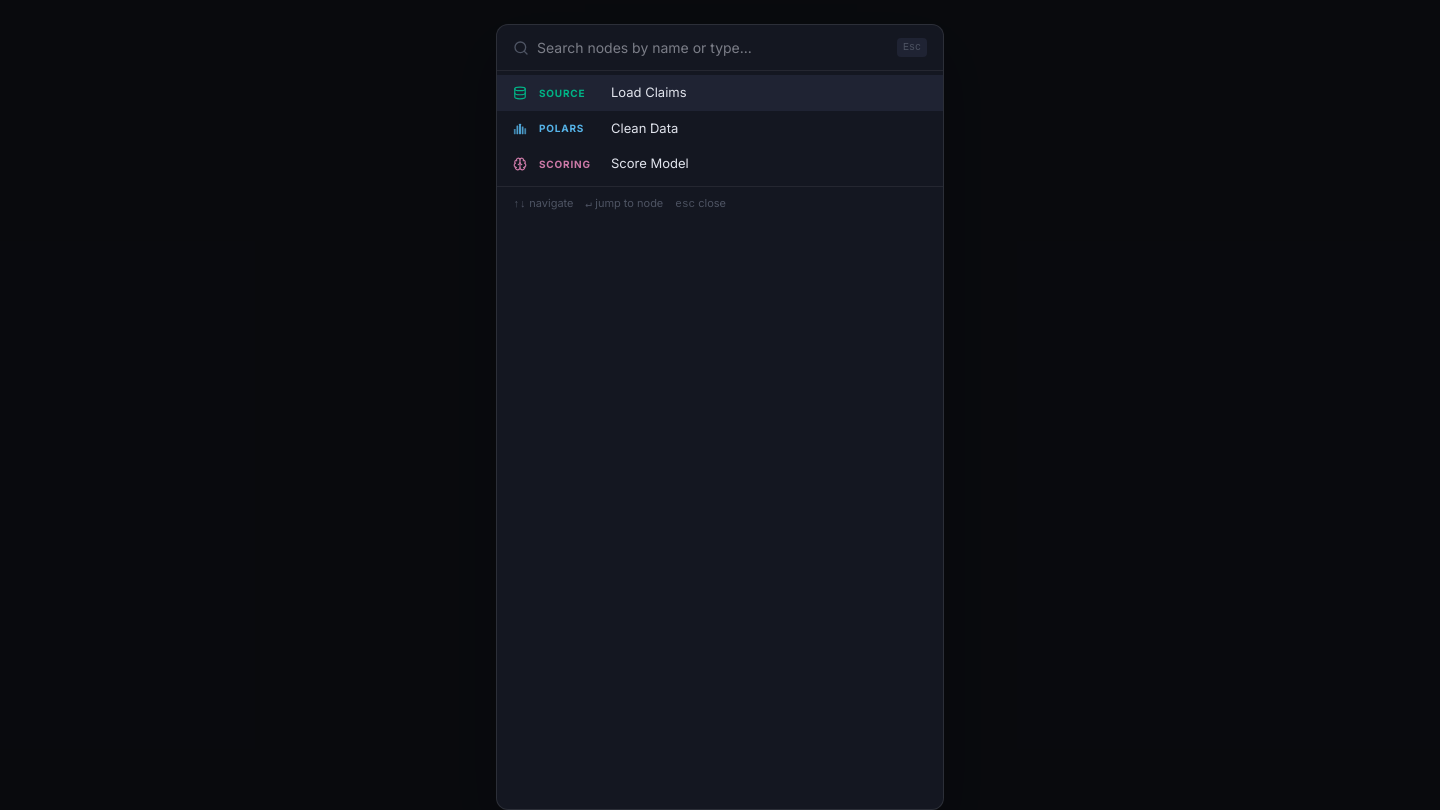
Test: NodeSearch › filters nodes by label
Type "clean" into the field with placeholder "Search nodes by name or type..." at (713, 48), box [537,37,889,58]
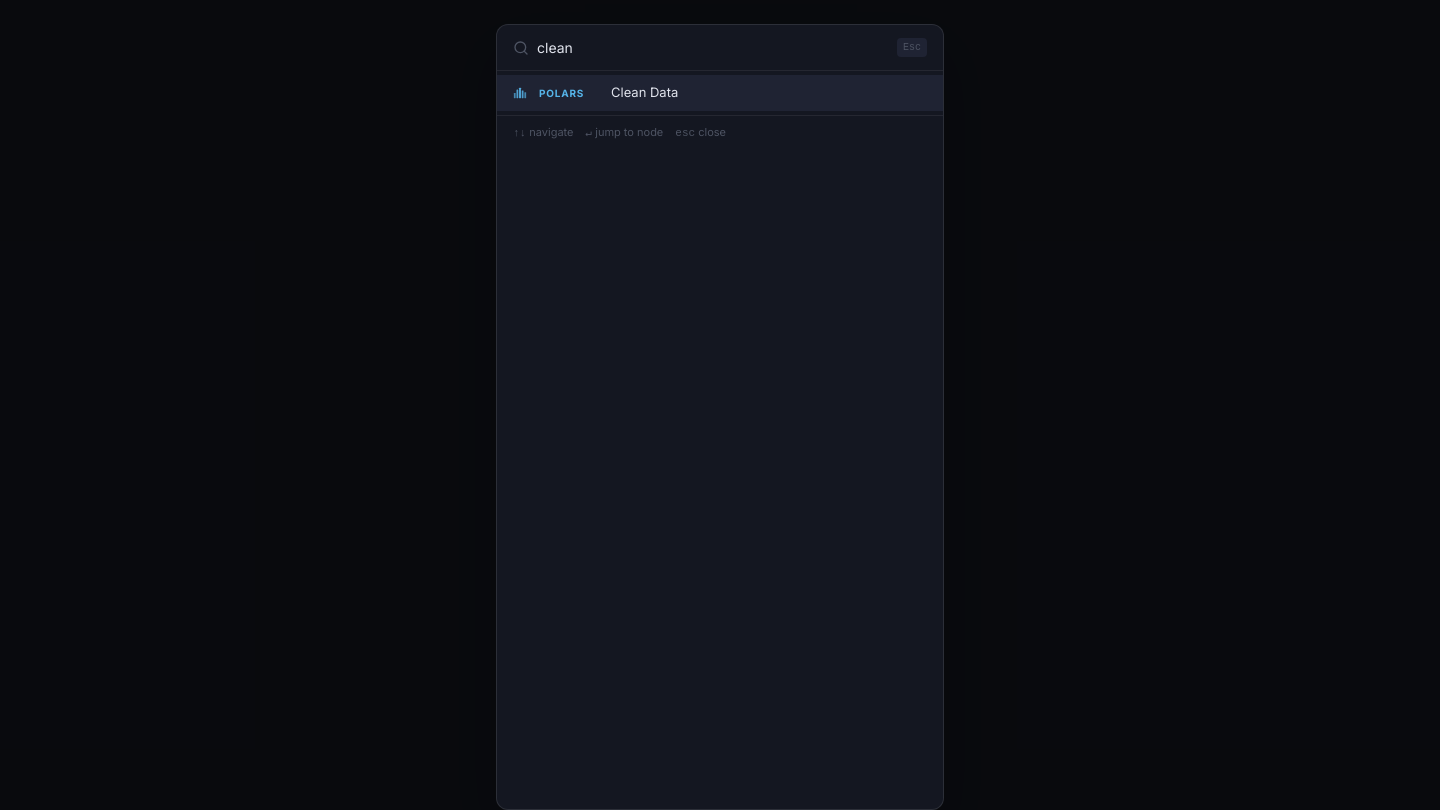
Expected: the text "Clean Data" is shown, [611,83,678,103]
Result: the option "Load Claims" is gone
Result: the option "Score Model" is gone
